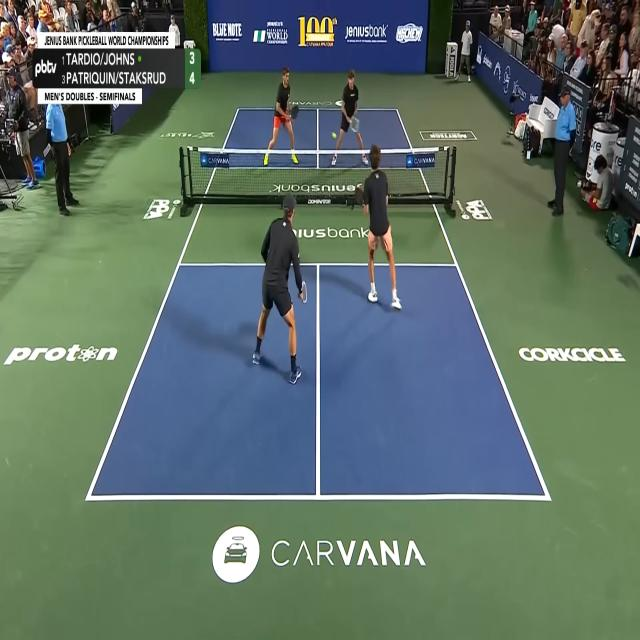ball: (332, 132, 336, 139)
